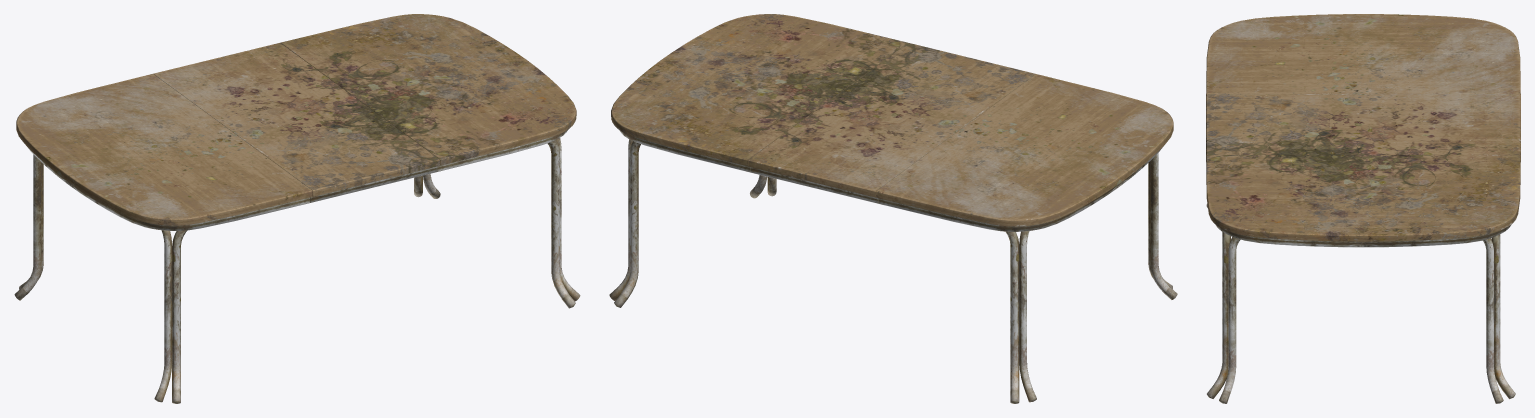
File: diningtable01a.obj
The picture shows the model from 3 angles, left to right: view 1: azimuth 30°, elevation 25°; view 2: azimuth 150°, elevation 25°; view 3: azimuth 270°, elevation 25°; orthographic projection. The views are drawn at different scales.
Visible parts, largest first — view 1: LODGroup_1_MainMesh_1_Submesh_2; view 2: LODGroup_1_MainMesh_1_Submesh_2; view 3: LODGroup_1_MainMesh_1_Submesh_2.
Boxes of the visible parts, x1,y1,x2,y2 form: LODGroup_1_MainMesh_1_Submesh_2: (14,14,580,403); LODGroup_1_MainMesh_1_Submesh_2: (609,14,1177,403); LODGroup_1_MainMesh_1_Submesh_2: (1206,14,1520,403).
Bounding box in the file's own units: 209 × 79.04 × 125.
Materials: 1 (1 with a texture image).
